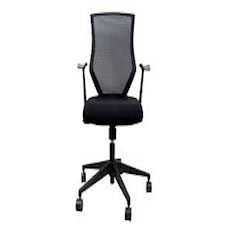chair: (38, 2, 171, 219)
